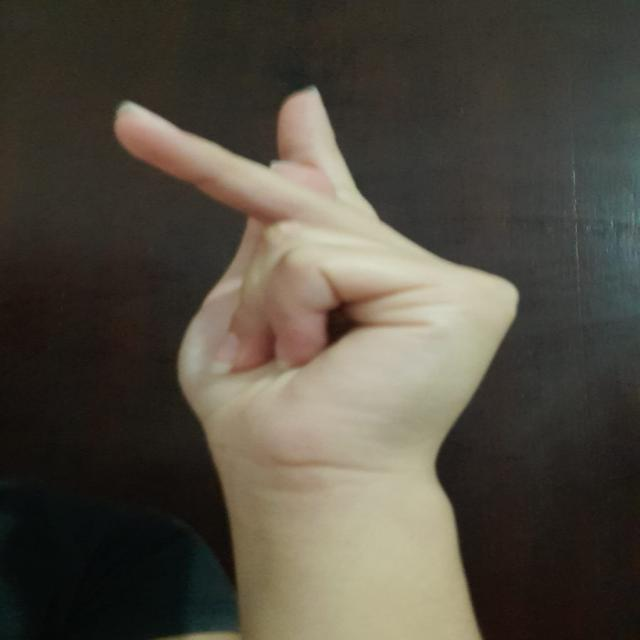K: (100, 72, 534, 460)
